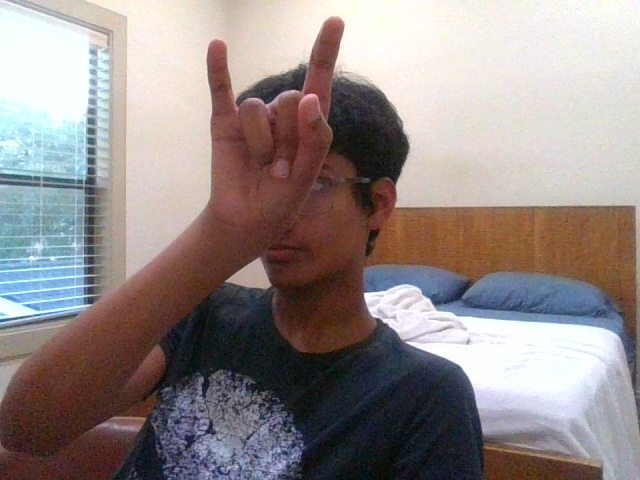ly: (206, 16, 345, 233)
